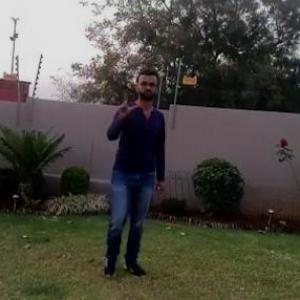land_hand: (113, 83, 141, 118)
